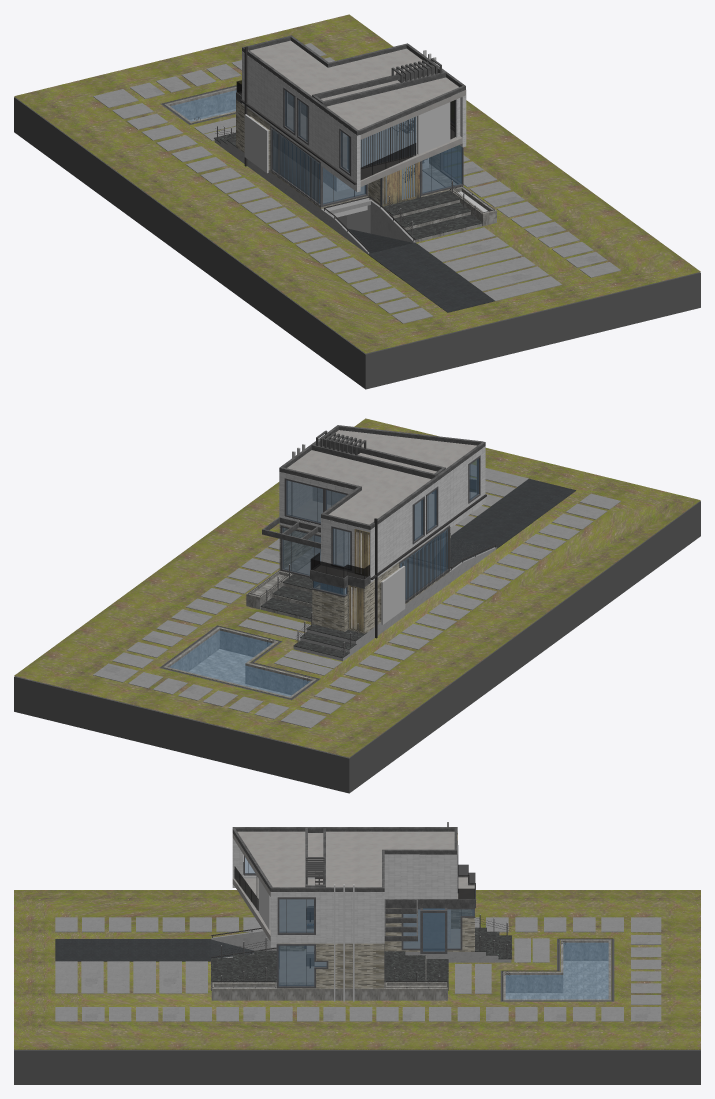
Rendered from house-1k.glb.
3 views of the same model, one above another, from view 1: azimuth 30°, elevation 25°; view 2: azimuth 150°, elevation 25°; view 3: azimuth 270°, elevation 25° (orthographic). The views are drawn at different scales.
Parts seen in each view (by area): view 1: Plane010, Object001_Material #24_0, Line011, Line007, Line008, Line001, Line062, Line237, Line012, Line063, Line100, Rectangle009 (+23 smaller); view 2: Plane010, Object001_Material #24_0, Line011, Line007, Line188, Line008, Line152, Line006, Line237, Line001, Line062, Rectangle009 (+14 smaller); view 3: Plane010, Object001_Material #24_0, Line007, Line011, Line188, Line006, Line008, Line152, Rectangle002, Line237, Line012, Line085 (+32 smaller).
Boxes of the visible parts, left/top/right/bottom form: Plane010: left=14, top=14, right=700, bottom=353; Object001_Material #24_0: left=14, top=97, right=700, bottom=389; Line011: left=242, top=40, right=465, bottom=139; Line007: left=242, top=51, right=466, bottom=192; Line008: left=346, top=228, right=494, bottom=312; Line001: left=214, top=139, right=415, bottom=253; Line062: left=272, top=128, right=365, bottom=204; Line237: left=242, top=35, right=465, bottom=135; Line012: left=241, top=93, right=462, bottom=186; Line063: left=383, top=145, right=461, bottom=203; Line100: left=347, top=117, right=416, bottom=168; Rectangle009: left=312, top=65, right=446, bottom=106; Plane010: left=14, top=418, right=700, bottom=757; Object001_Material #24_0: left=14, top=501, right=700, bottom=793; Line011: left=287, top=430, right=476, bottom=534; Line007: left=279, top=446, right=485, bottom=582; Line188: left=164, top=627, right=316, bottom=698; Line008: left=443, top=478, right=575, bottom=568; Line152: left=170, top=630, right=309, bottom=696; Line006: left=279, top=524, right=449, bottom=633; Line237: left=279, top=425, right=485, bottom=529; Line001: left=293, top=536, right=496, bottom=661; Line062: left=400, top=529, right=447, bottom=599; Rectangle009: left=311, top=438, right=445, bottom=479; Plane010: left=14, top=890, right=700, bottom=1049; Object001_Material #24_0: left=14, top=1050, right=700, bottom=1084; Line007: left=232, top=834, right=457, bottom=947; Line011: left=232, top=831, right=454, bottom=897; Line188: left=503, top=939, right=610, bottom=1000; Line006: left=277, top=908, right=474, bottom=988; Line008: left=55, top=939, right=254, bottom=961; Line152: left=506, top=943, right=608, bottom=998; Rectangle002: left=211, top=982, right=447, bottom=1000; Line237: left=232, top=827, right=457, bottom=891; Line012: left=232, top=877, right=474, bottom=941; Line085: left=403, top=909, right=474, bottom=948.
Bounding box in the file's own units: 4.72 × 2.16 × 8.58.
Materials: 24 (14 with a texture image).
